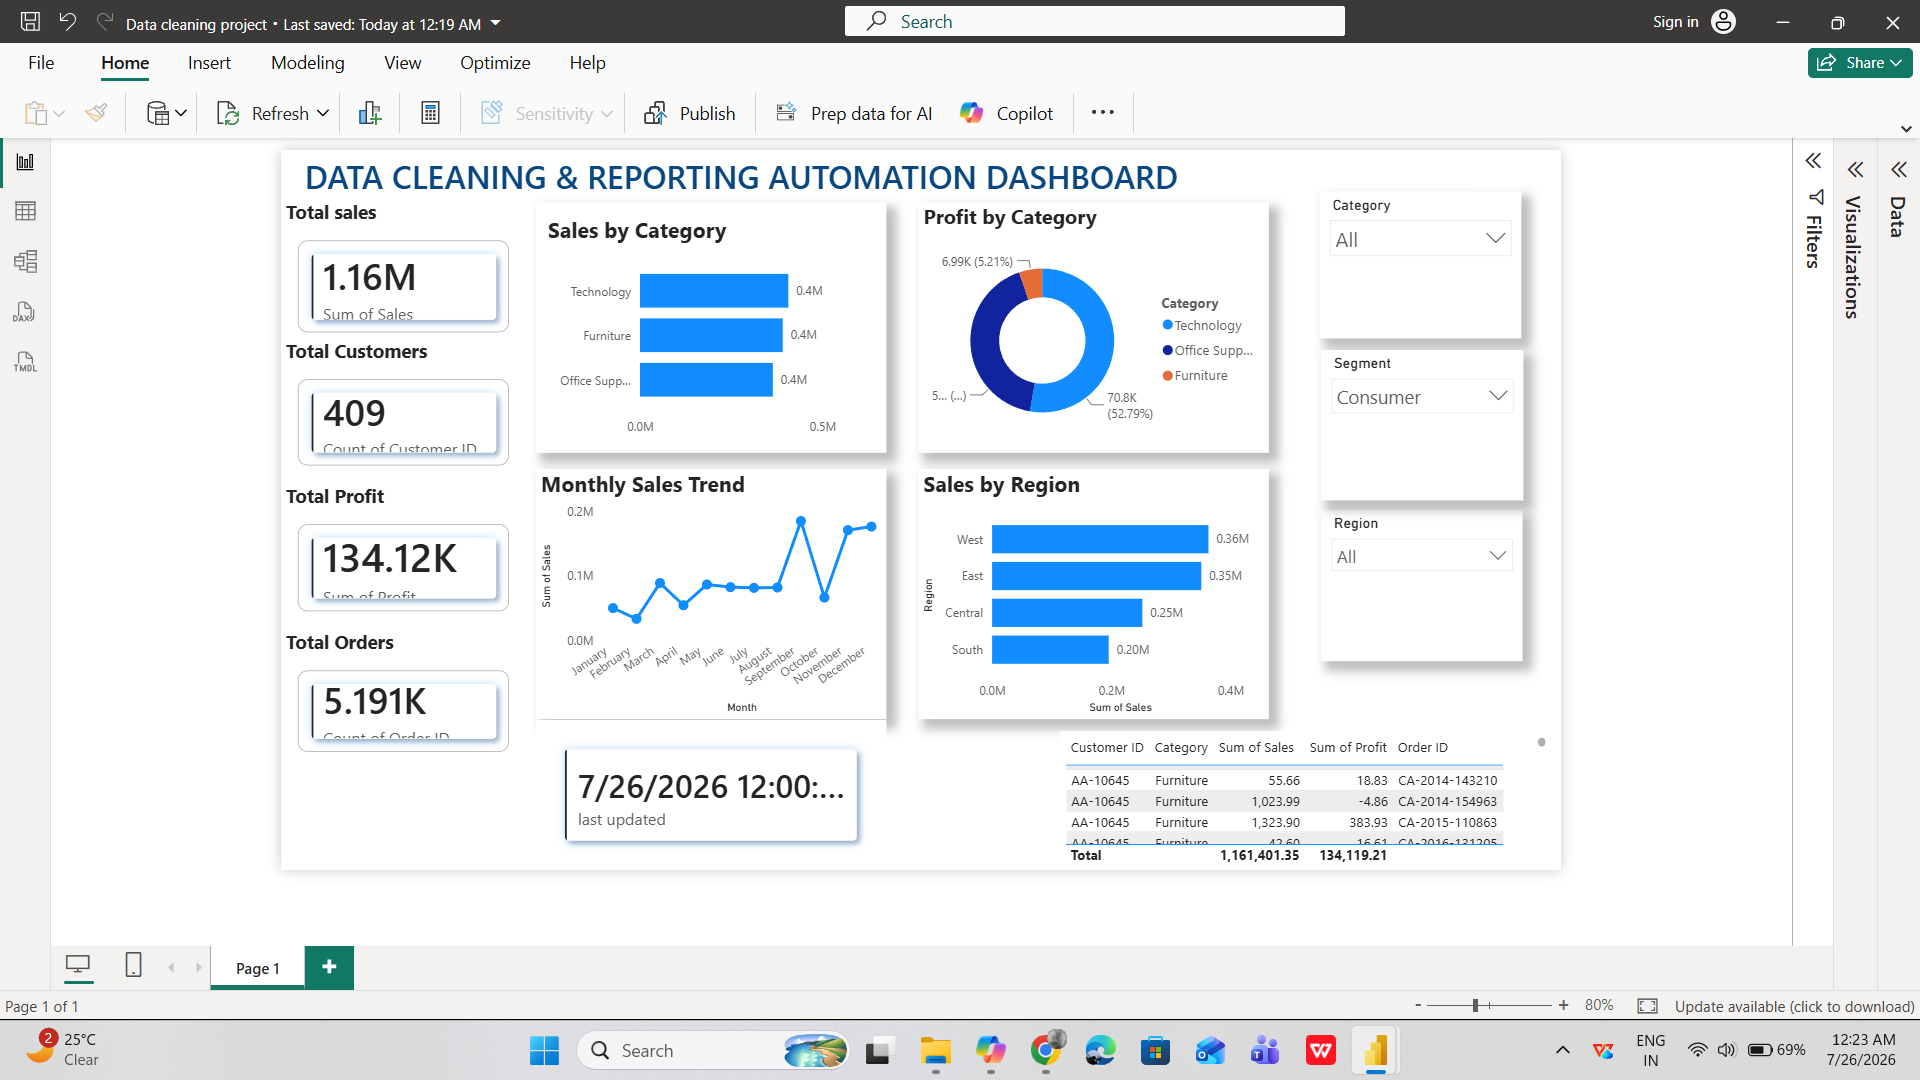

The page's visual inventory and layout, read from the dashboard file:
{"tool":"powerbi","page":{"name":"Page 1","canvas":[1280,720],"ordinal":0},"visuals":[{"type":"textbox","box":[10,0,937.8,101.1],"z":0},{"type":"cardVisual","title":"Total Profit","fields":{"Data":["Sum(cleaned_data.Profit)"]},"box":[0,332.5,245,146.2],"z":1000},{"type":"cardVisual","title":"Total sales","fields":{"Data":["Sum(cleaned_data.Sales)"]},"box":[0,48.8,245,151.2],"z":2000},{"type":"cardVisual","title":"Total Orders","fields":{"Data":["CountNonNull(cleaned_data.Order ID)"]},"box":[0,478.8,245,140],"z":3000},{"type":"cardVisual","title":"Total Customers","fields":{"Data":["Count(cleaned_data.Customer ID)"]},"box":[0,187.5,245,145],"z":4000},{"type":"clusteredBarChart","title":"Sales by Category","fields":{"Category":["cleaned_data.Category"],"Y":["Sum(cleaned_data.Sales)"]},"box":[255,52.5,350,250],"z":5000},{"type":"donutChart","title":"Profit by Category","fields":{"Category":["cleaned_data.Category"],"Y":["Sum(cleaned_data.Profit)"]},"box":[638,53,350,250],"z":6000},{"type":"lineChart","title":"Monthly Sales Trend","fields":{"Category":["cleaned_data.Order Date.Variation.Date Hierarchy.Month"],"Y":["Sum(cleaned_data.Sales)"]},"box":[255,318.8,350,250],"z":7000},{"type":"clusteredBarChart","title":" Sales by Region","fields":{"Category":["cleaned_data.Region"],"Y":["Sum(cleaned_data.Sales)"]},"box":[637.5,318.8,350,250],"z":8000},{"type":"slicer","fields":{"Values":["cleaned_data.Category"]},"box":[1038.8,41.2,201.7,146.8],"z":9000},{"type":"slicer","fields":{"Values":["cleaned_data.Region"]},"box":[1040.1,359.5,201.7,150.9],"z":10000},{"type":"slicer","fields":{"Values":["cleaned_data.Segment"]},"box":[1040,200,202.5,150],"z":11000},{"type":"tableEx","fields":{"Values":["cleaned_data.Customer ID","cleaned_data.Category","Sum(cleaned_data.Sales)","Sum(cleaned_data.Profit)","cleaned_data.Order ID"]},"box":[778.8,581.2,491.2,138.8],"z":12000},{"type":"cardVisual","fields":{"Data":["cleaned_data.last updated"]},"box":[255,570,350,150],"z":13001}]}

Visuals, with their boxes on the page's 1280x720 design canvas (x1, y1, x2, y2). These are canvas units, not pixel positions in the 1920x1080 screenshot, which may show the page scaled, cropped or inside an application window:
textbox: l=10, t=0, r=948, b=101
"Total Profit" cardVisual: l=0, t=332, r=245, b=479
"Total sales" cardVisual: l=0, t=49, r=245, b=200
"Total Orders" cardVisual: l=0, t=479, r=245, b=619
"Total Customers" cardVisual: l=0, t=188, r=245, b=332
"Sales by Category" clusteredBarChart: l=255, t=52, r=605, b=302
"Profit by Category" donutChart: l=638, t=53, r=988, b=303
"Monthly Sales Trend" lineChart: l=255, t=319, r=605, b=569
" Sales by Region" clusteredBarChart: l=638, t=319, r=988, b=569
slicer - cleaned_data.Category: l=1039, t=41, r=1240, b=188
slicer - cleaned_data.Region: l=1040, t=360, r=1242, b=510
slicer - cleaned_data.Segment: l=1040, t=200, r=1242, b=350
tableEx - cleaned_data.Customer ID x cleaned_data.Category: l=779, t=581, r=1270, b=720
cardVisual - cleaned_data.last updated: l=255, t=570, r=605, b=720
